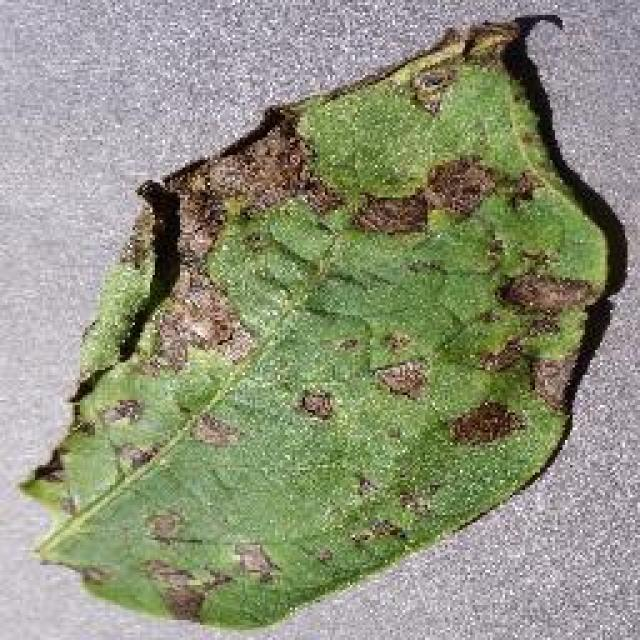early_blight: (18, 10, 628, 635)
